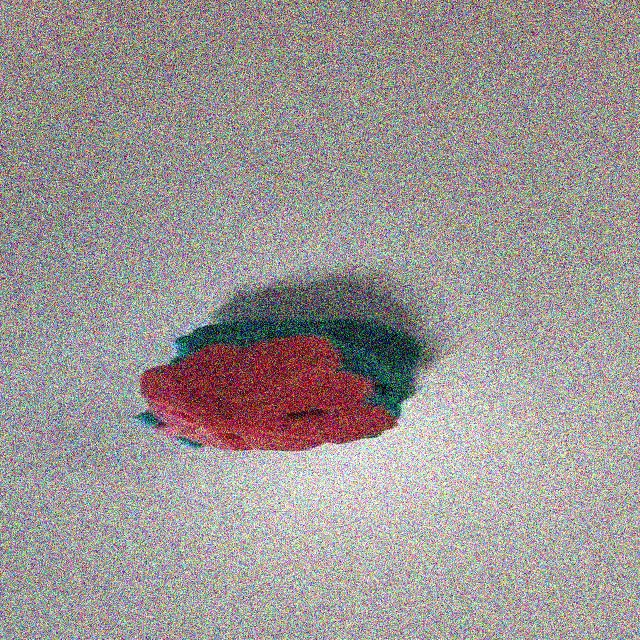House: (136, 311, 437, 461)
